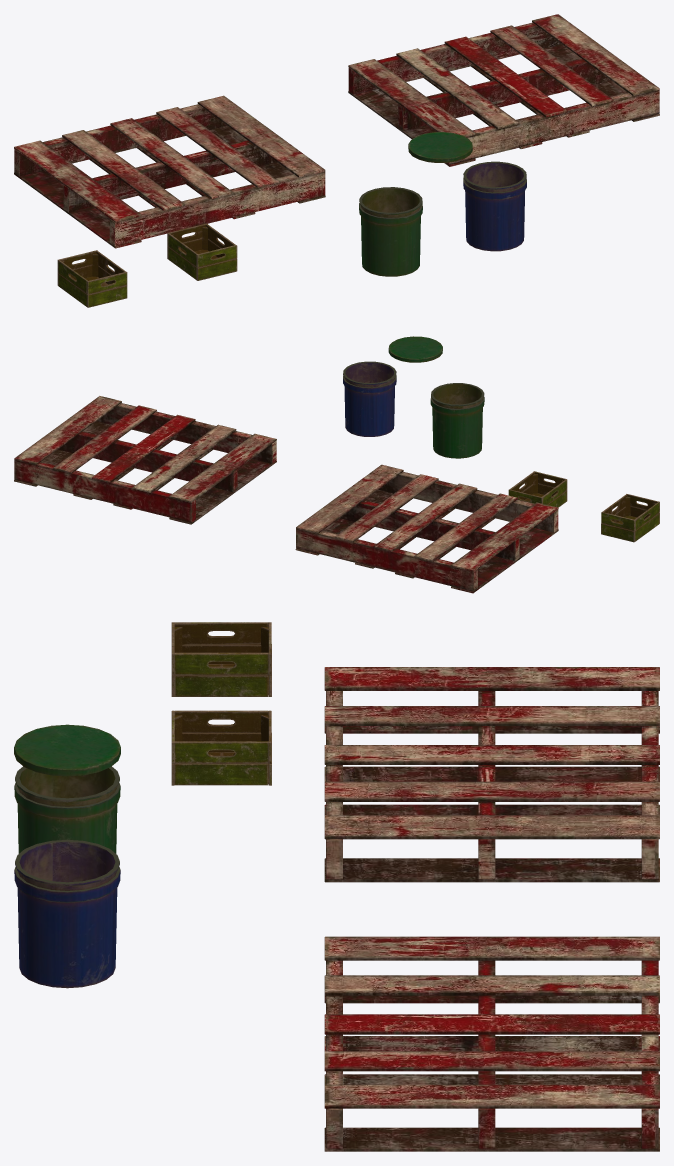
The model's file is pallet_pack.glb.
The picture shows the model from 3 angles, top to bottom: view 1: azimuth 30°, elevation 25°; view 2: azimuth 150°, elevation 25°; view 3: azimuth 270°, elevation 25°; orthographic projection. The views are drawn at different scales.
Parts seen in each view (by area): view 1: pallet_pack; view 2: pallet_pack; view 3: pallet_pack.
Boxes of the visible parts, x1=… form: pallet_pack: x1=14, y1=14, x2=659, y2=307; pallet_pack: x1=14, y1=336, x2=659, y2=593; pallet_pack: x1=14, y1=622, x2=659, y2=1151.
Bounding box in the file's own units: 2 × 0.3316 × 1.09.
Materials: 3 (3 with a texture image).
